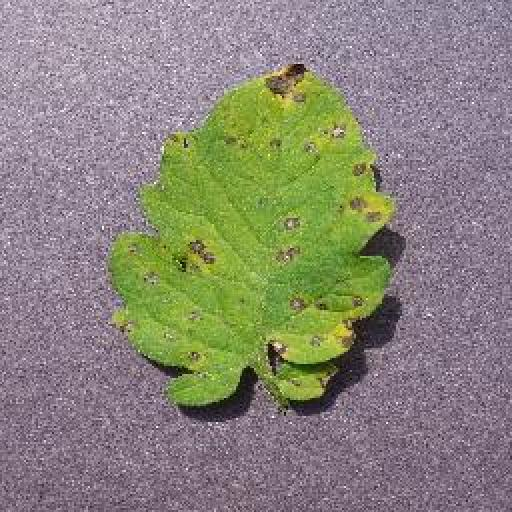Septoria: (114, 60, 396, 407)
